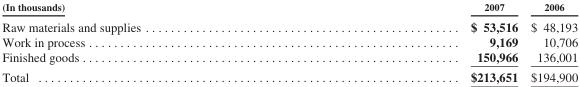table: (1, 1, 577, 83)
table column: (1, 1, 305, 83), (305, 1, 523, 83), (523, 1, 577, 83)
table column header: (1, 1, 577, 15)
table row: (1, 15, 577, 33), (1, 48, 577, 66), (1, 66, 577, 83), (1, 33, 577, 48), (1, 1, 577, 15)
